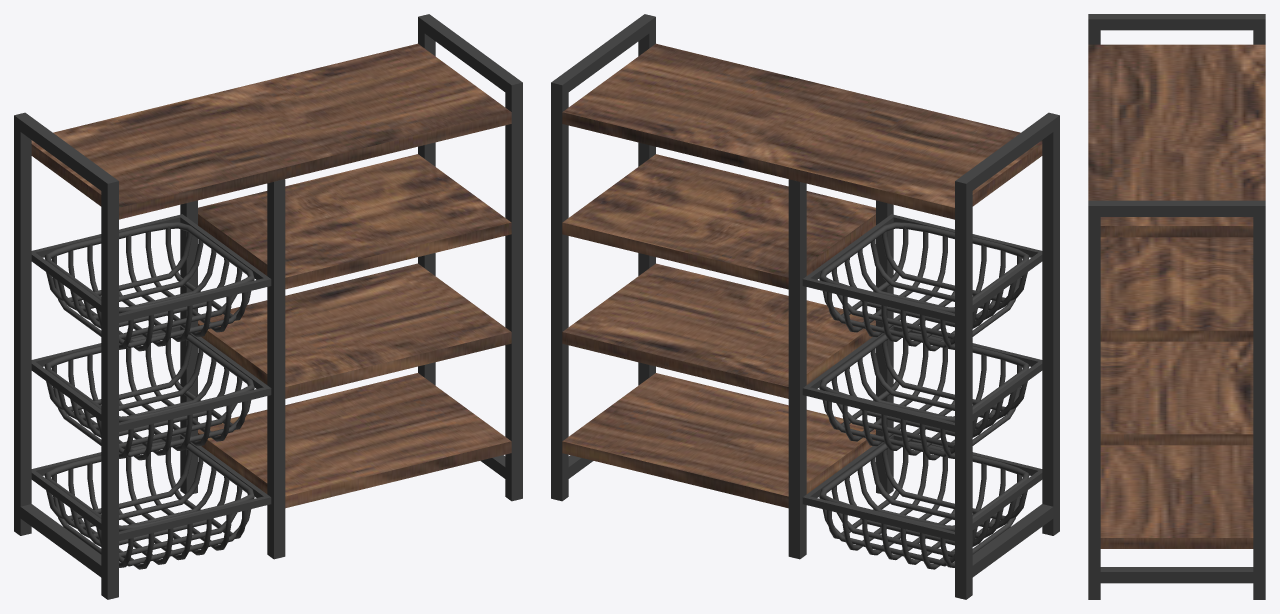
The model's file is Shelf.fbx.
3 renders of one model, left to right at view 1: azimuth 30°, elevation 25°; view 2: azimuth 150°, elevation 25°; view 3: azimuth 270°, elevation 25°, orthographic. The views are drawn at different scales.
Visible parts, largest first — view 1: Shelve; view 2: Shelve; view 3: Shelve.
Part boxes in pixels (left/top/right/bottom): Shelve: left=14, top=14, right=522, bottom=599; Shelve: left=551, top=14, right=1059, bottom=599; Shelve: left=1088, top=14, right=1265, bottom=599.
Size of the model in its own units: 558 by 534 by 218.
